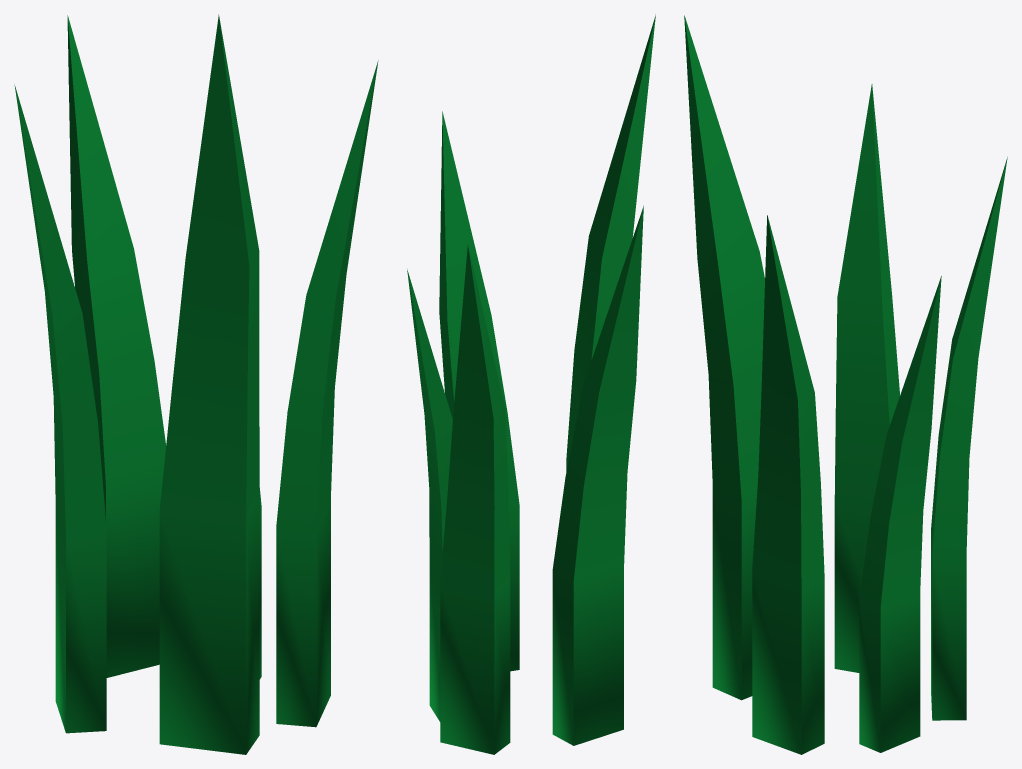
Rendered from GrassA.fbx.
The picture shows the model from 3 angles, left to right: view 1: azimuth 30°, elevation 25°; view 2: azimuth 150°, elevation 25°; view 3: azimuth 270°, elevation 25°; orthographic projection. The views are drawn at different scales.
Parts seen in each view (by area): view 1: GrassA; view 2: GrassA; view 3: GrassA.
Part boxes in pixels (left/top/right/bottom): GrassA: left=14, top=14, right=378, bottom=754; GrassA: left=407, top=14, right=655, bottom=754; GrassA: left=684, top=15, right=1007, bottom=754.
Size of the model in its own units: 0.5967 by 0.6433 by 1.48.
